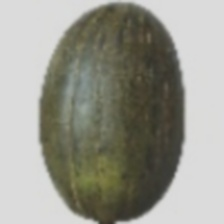honeydew: (62, 52, 197, 208)
